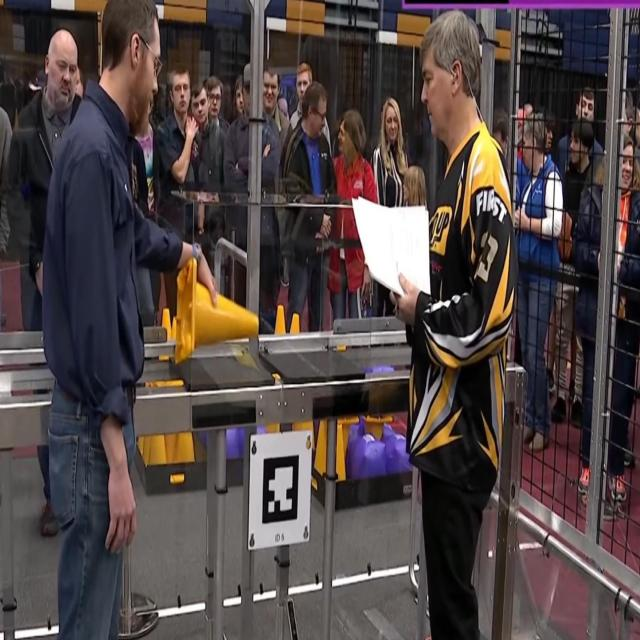frc_cone: (174, 257, 258, 365), (361, 410, 390, 442), (313, 420, 329, 477), (335, 422, 348, 481), (173, 434, 195, 466), (271, 303, 289, 336), (150, 429, 167, 463), (163, 430, 176, 464), (160, 307, 172, 339), (288, 312, 301, 336), (139, 433, 150, 461)
frc_cube: (351, 433, 385, 480), (384, 432, 414, 476), (225, 426, 243, 458)
